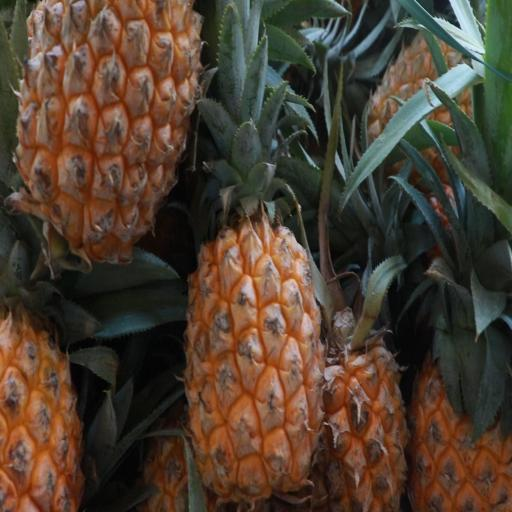Pineapple - v8 v1: (179, 144, 330, 506), (13, 1, 204, 266), (404, 187, 510, 512), (302, 288, 412, 512)
